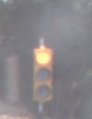Red: (27, 44, 57, 107)
